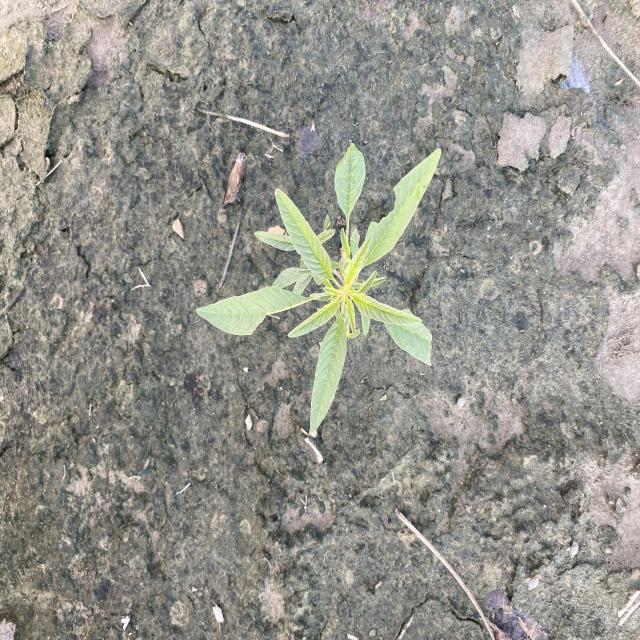Waterhemp: (195, 142, 443, 434)
